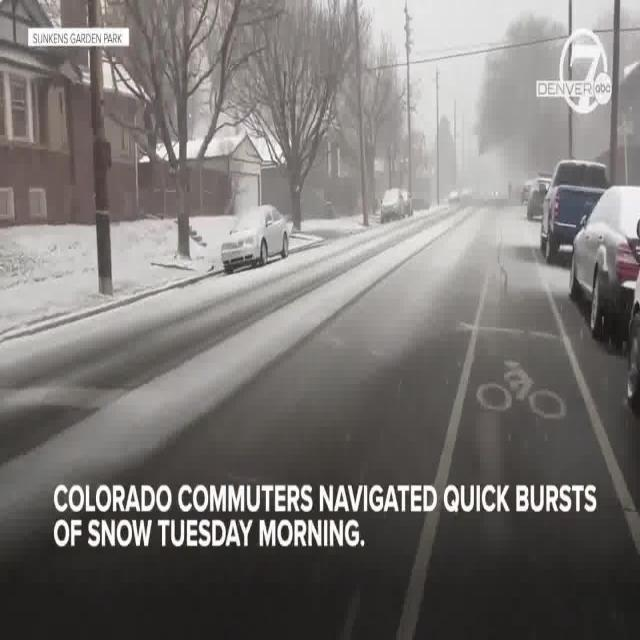Car: (571, 184, 640, 340), (219, 204, 288, 274), (624, 199, 640, 412), (526, 178, 552, 224), (379, 187, 404, 223), (402, 188, 413, 216)
Truck: (538, 159, 611, 260)
